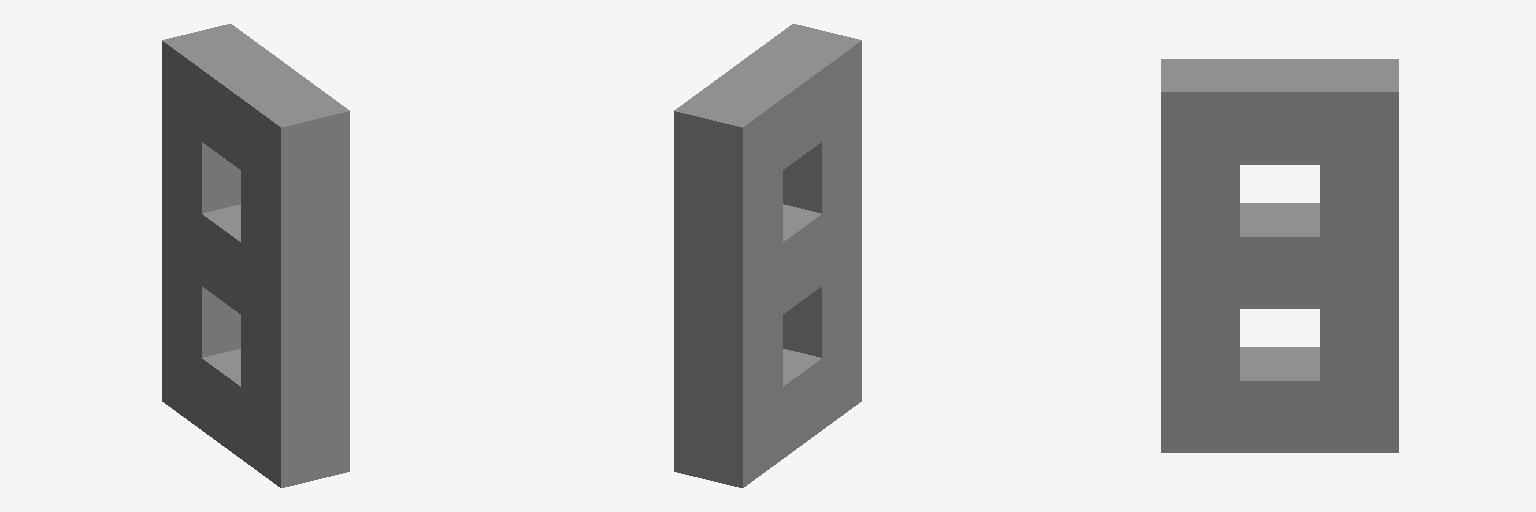
The picture shows the model from 3 angles: view 1: azimuth 30°, elevation 25°; view 2: azimuth 150°, elevation 25°; view 3: azimuth 270°, elevation 25°; orthographic projection.
Parts seen in each view (by area): view 1: mesh[number redacted]; view 2: mesh[number redacted]; view 3: mesh[number redacted].
Part boxes in pixels (x1,y1,x2,y2): mesh[number redacted]: (162, 24, 349, 487); mesh[number redacted]: (674, 24, 861, 487); mesh[number redacted]: (1161, 59, 1398, 452).
Bounding box in the file's own units: 0.02 × 0.1 × 0.06.